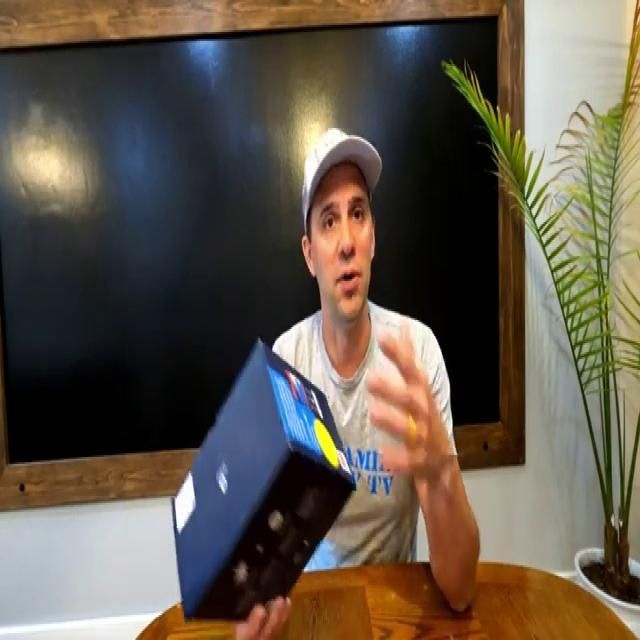adult: (272, 128, 478, 612)
